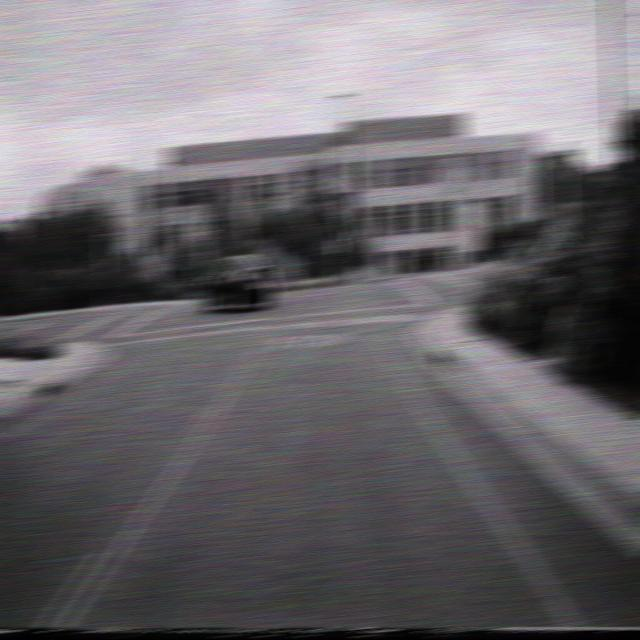stop_sign: (438, 156, 468, 198)
